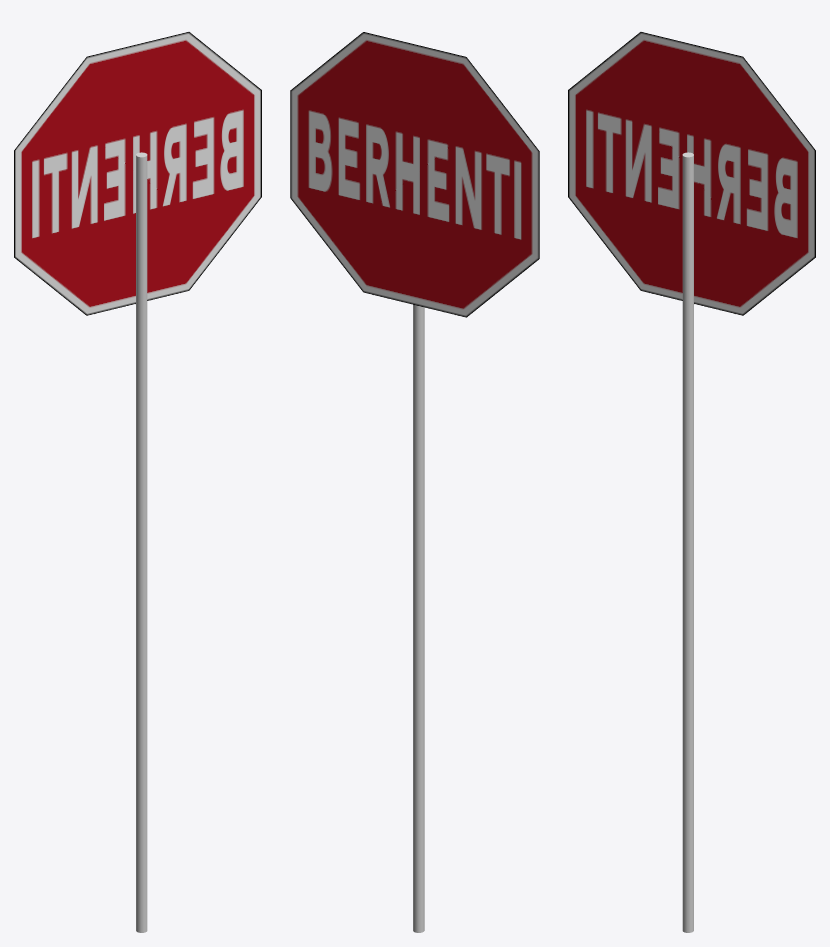
The model's file is berhenti.fbx.
The picture shows the model from 3 angles, left to right: view 1: azimuth 30°, elevation 25°; view 2: azimuth 150°, elevation 25°; view 3: azimuth 330°, elevation 25°; orthographic projection.
Visible parts, largest first — view 1: Plane, Cylinder; view 2: Plane, Cylinder; view 3: Plane, Cylinder.
Part boxes in pixels (x1,y1,x2,y2): Plane: (14, 32, 261, 315); Cylinder: (136, 152, 147, 932); Plane: (290, 32, 539, 317); Cylinder: (413, 304, 424, 932); Plane: (568, 32, 815, 315); Cylinder: (682, 152, 693, 932).
Size of the model in its own units: 200 by 682 by 9.27.
